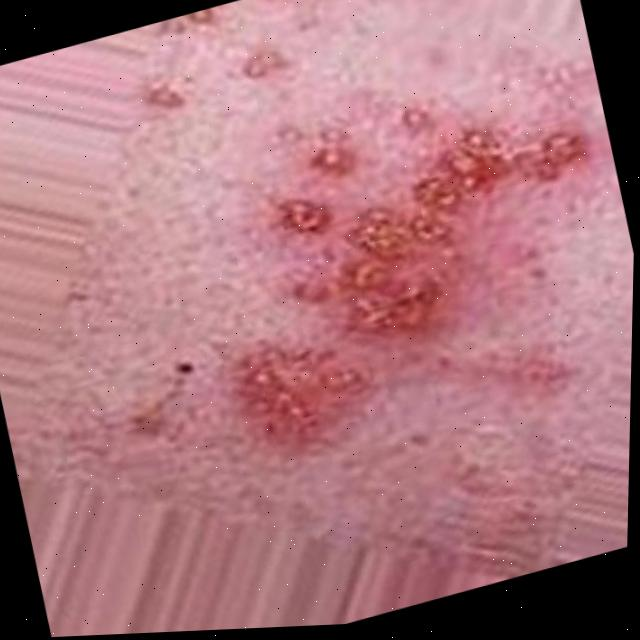Shingles: (192, 79, 622, 464)
